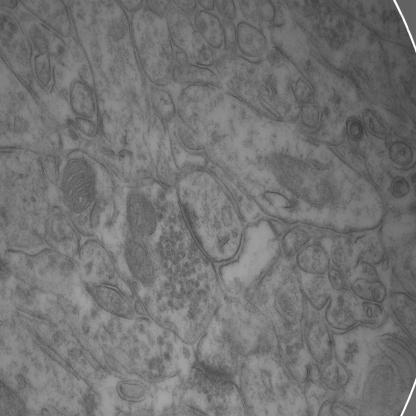mitochondria: (59, 158, 93, 211), (123, 236, 154, 286), (128, 194, 156, 236)
